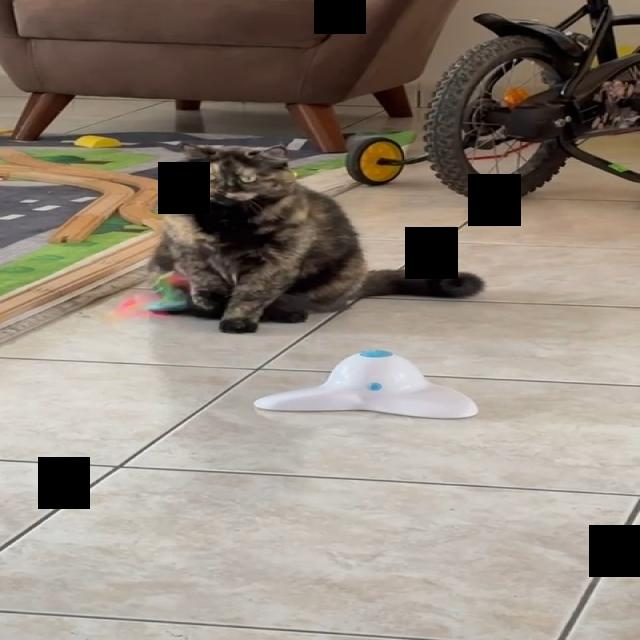authorized: (147, 142, 484, 333)
